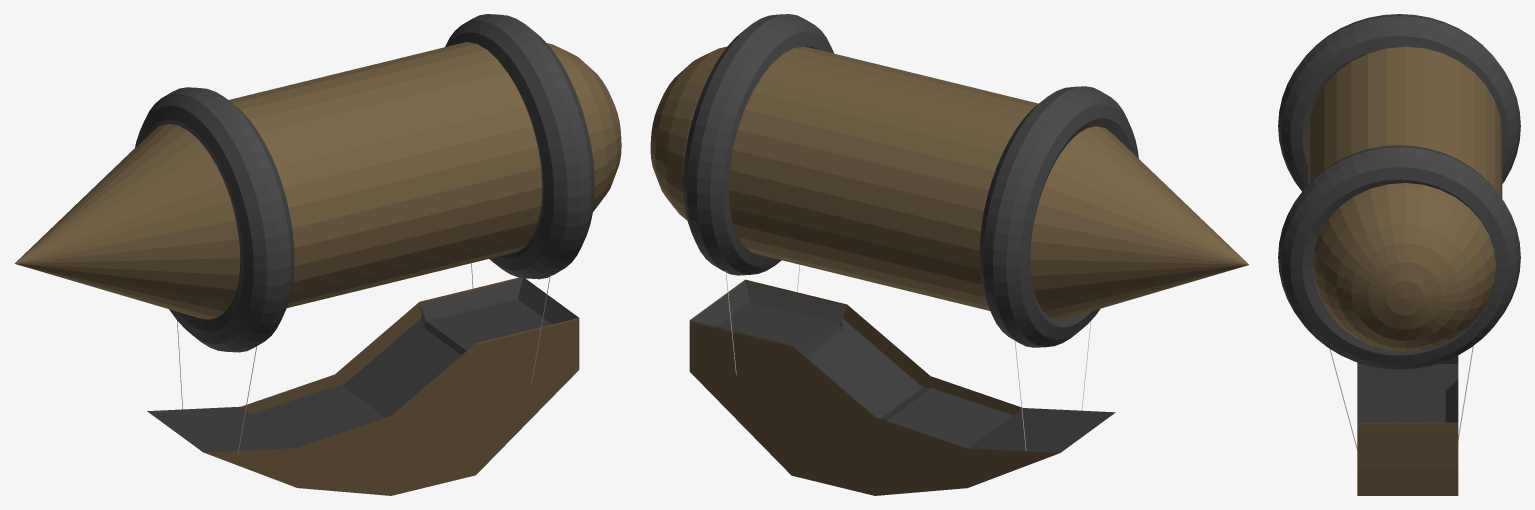
File: zeppelin.fbx
The picture shows the model from 3 angles, left to right: view 1: azimuth 30°, elevation 25°; view 2: azimuth 150°, elevation 25°; view 3: azimuth 270°, elevation 25°; orthographic projection. The views are drawn at different scales.
Visible parts, largest first — view 1: Cone, Cube, Torus.001, Torus; view 2: Cone, Cube, Torus.001, Torus; view 3: Cone, Torus, Cube, Torus.001.
Part boxes in pixels (x1,y1,x2,y2): Cone: [14, 42, 621, 319]; Cube: [147, 277, 579, 495]; Torus.001: [135, 87, 294, 352]; Torus: [445, 14, 594, 279]; Cone: [650, 46, 1248, 319]; Cube: [689, 279, 1115, 495]; Torus.001: [979, 86, 1138, 347]; Torus: [683, 14, 833, 275]; Cone: [1308, 46, 1502, 351]; Torus: [1278, 145, 1520, 369]; Cube: [1357, 355, 1458, 495]; Torus.001: [1278, 14, 1520, 191].
Size of the model in its own units: 631 by 426 by 250.
